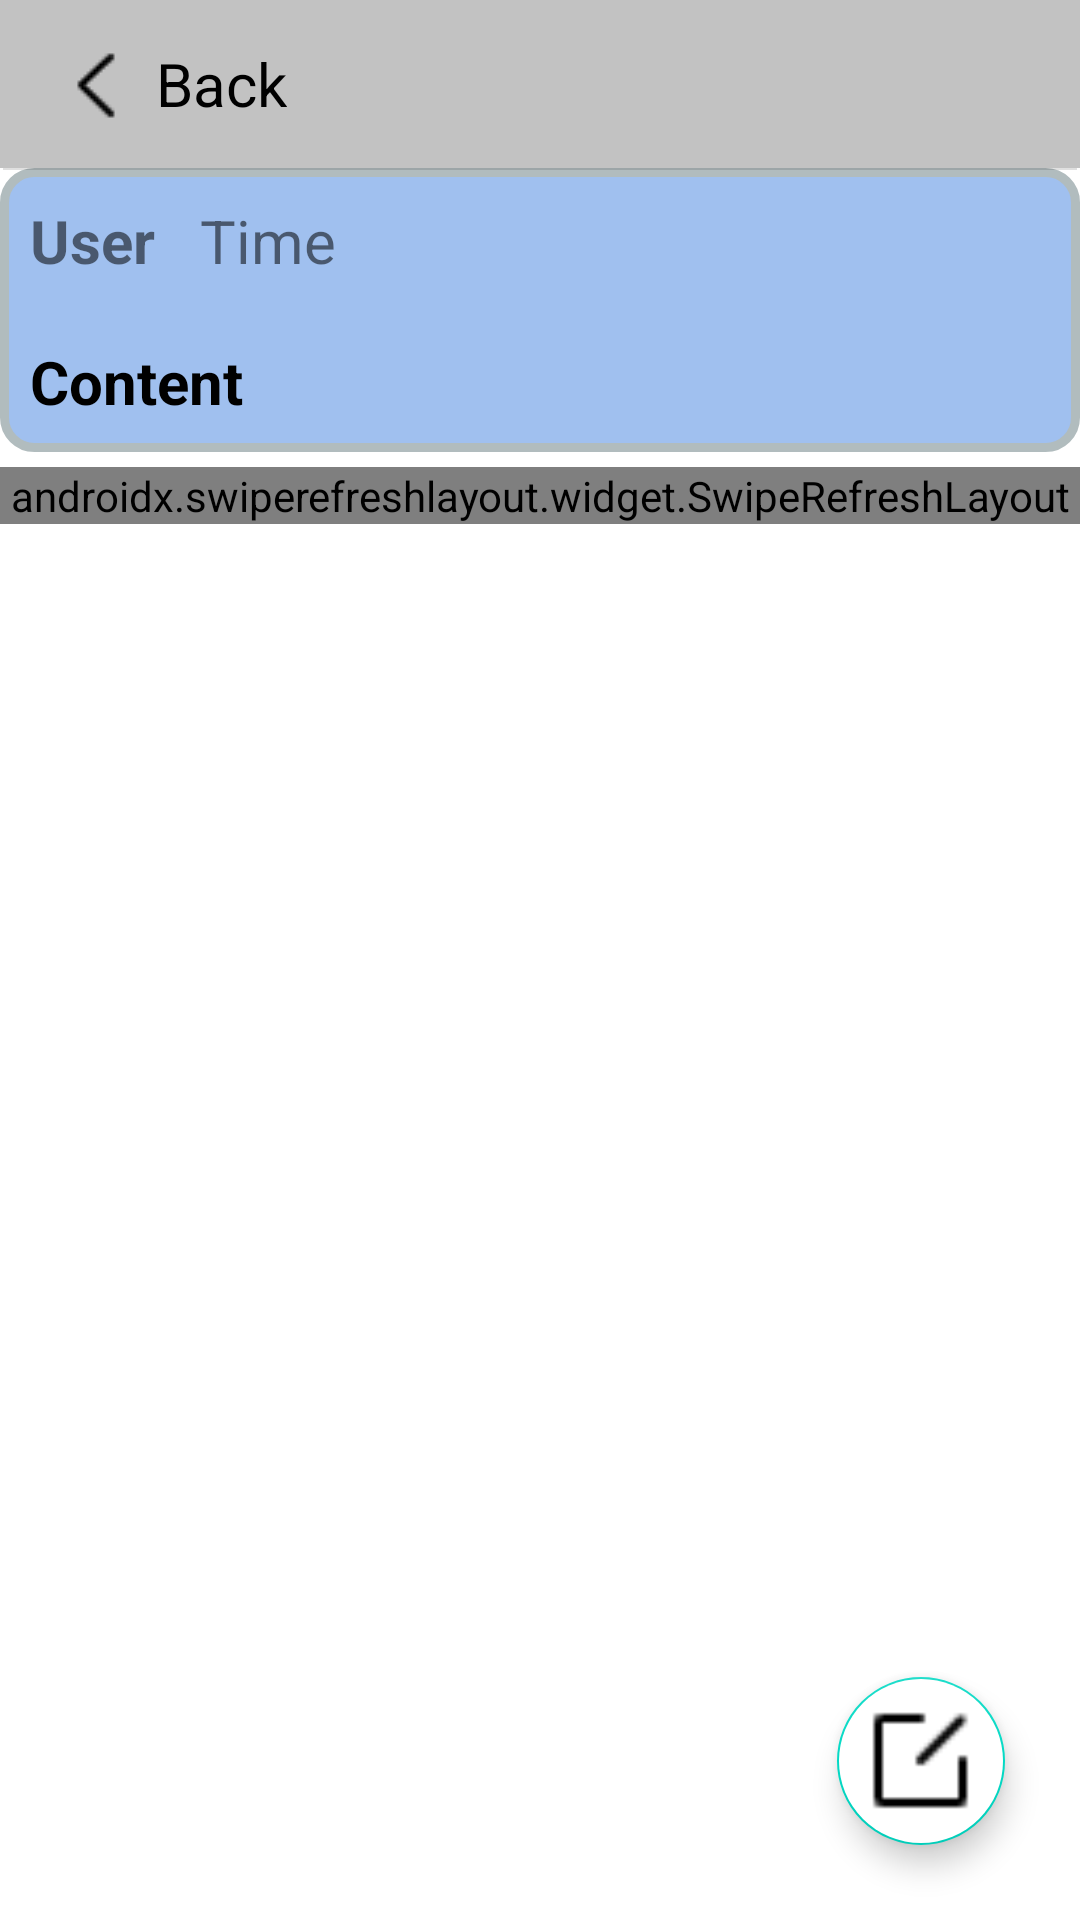

Icons on this 1080*1920 Android screen, each with the point to tap as [x,y]:
edit: [920,1760]
